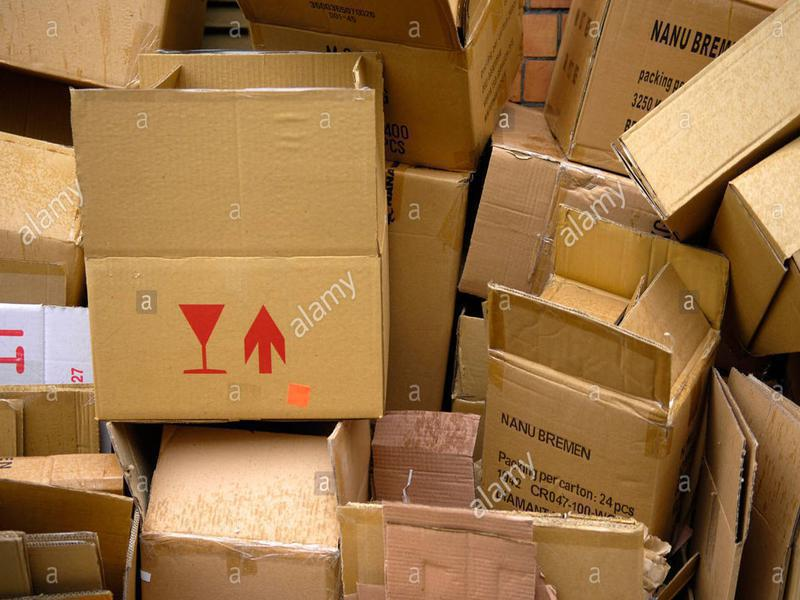cardboard: (55, 48, 401, 429), (471, 204, 738, 530), (95, 416, 371, 600), (607, 1, 800, 229), (699, 364, 800, 600), (718, 132, 800, 365)
